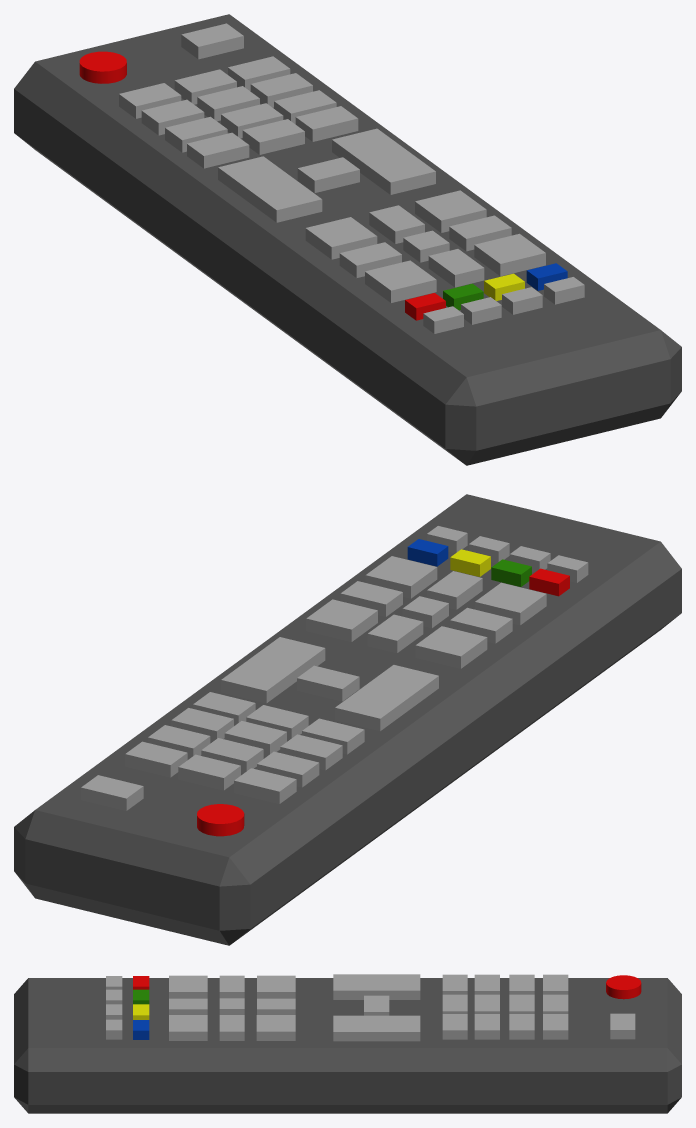
Rendered from mando.fbx.
The picture shows the model from 3 angles, top to bottom: view 1: azimuth 30°, elevation 25°; view 2: azimuth 150°, elevation 25°; view 3: azimuth 270°, elevation 25°; orthographic projection. The views are drawn at different scales.
Parts seen in each view (by area): view 1: pCube1, pCube15, pCube3, pCube4, pCube13, pCube12, pCube14, pCube33, pCube22, pCube23, pCube24, pCube21 (+12 smaller); view 2: pCube1, pCube12, pCube3, pCube4, pCube14, pCube13, pCube15, pCube33, pCube24, pCube21, pCube22, pCube23 (+12 smaller); view 3: pCube1, pCube4, pCube3, pCube13, pCube12, pCube14, pCube15, pCube33, pCube21, pCube22, pCube23, pCube24 (+12 smaller).
Boxes of the visible parts, x1,y1,x2,y2 form: pCube1: (14, 14, 681, 465); pCube15: (187, 106, 358, 168); pCube3: (218, 156, 322, 222); pCube4: (332, 128, 435, 194); pCube13: (141, 73, 312, 135); pCube12: (119, 56, 290, 118); pCube14: (165, 90, 336, 152); pCube33: (423, 277, 584, 333); pCube22: (474, 233, 545, 276); pCube23: (365, 260, 436, 302); pCube24: (305, 217, 377, 259); pCube21: (415, 190, 486, 232); pCube1: (14, 494, 681, 945); pCube12: (125, 741, 296, 803); pCube3: (335, 665, 438, 731); pCube4: (221, 637, 325, 703); pCube14: (171, 708, 342, 770); pCube13: (148, 725, 319, 787); pCube15: (193, 692, 364, 754); pCube33: (427, 526, 588, 582); pCube24: (415, 626, 487, 668); pCube21: (306, 599, 377, 641); pCube22: (365, 556, 437, 598); pCube23: (475, 582, 546, 625); pCube1: (14, 978, 681, 1113); pCube4: (333, 1015, 420, 1041); pCube3: (333, 974, 420, 999); pCube13: (509, 974, 534, 1039); pCube12: (543, 974, 568, 1039); pCube14: (474, 974, 499, 1039); pCube15: (442, 974, 467, 1039); pCube33: (106, 976, 122, 1039); pCube21: (256, 1015, 295, 1040); pCube22: (169, 1015, 207, 1040); pCube23: (169, 975, 207, 998); pCube24: (257, 975, 295, 998).
Bounding box in the file's own units: 1.44 × 0.5862 × 4.74.
